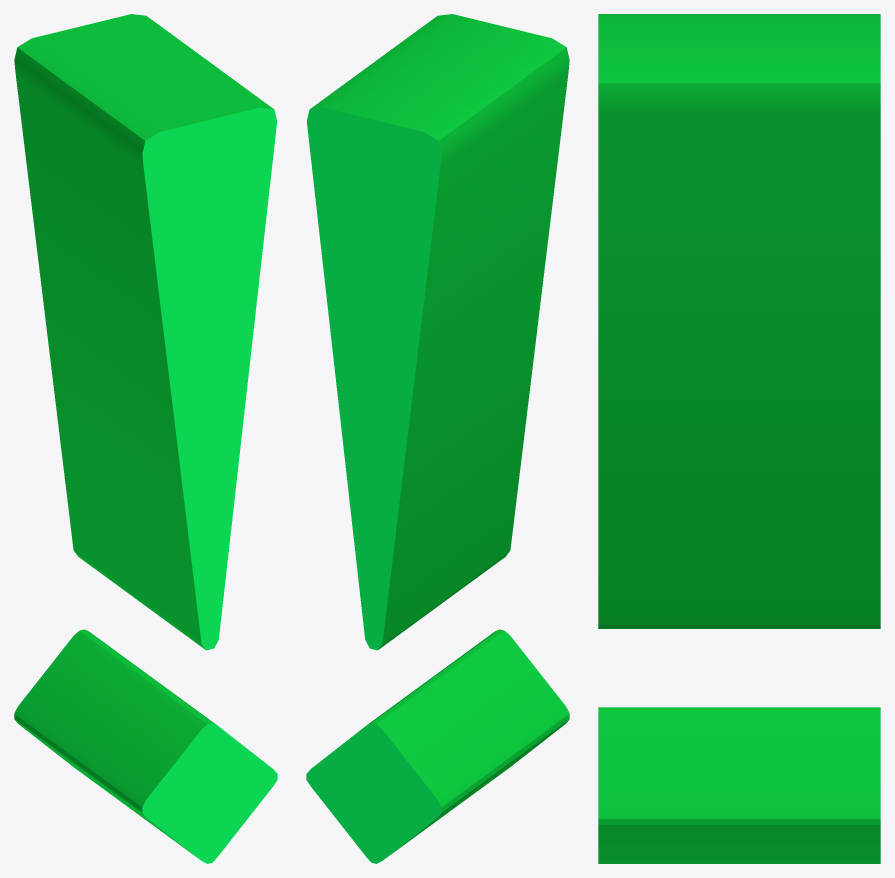
The picture shows the model from 3 angles, left to right: view 1: azimuth 30°, elevation 25°; view 2: azimuth 150°, elevation 25°; view 3: azimuth 270°, elevation 25°; orthographic projection. The views are drawn at different scales.
Visible parts, largest first — view 1: !_Soul_Green; view 2: !_Soul_Green; view 3: !_Soul_Green.
Boxes of the visible parts, left/top/right/bottom form: !_Soul_Green: left=14, top=14, right=277, bottom=863; !_Soul_Green: left=306, top=14, right=569, bottom=863; !_Soul_Green: left=598, top=14, right=880, bottom=863.
Size of what is drawn, in the model's own units: 0.0275 by 0.1442 by 0.045.
Materials: 2 (2 with a texture image).
